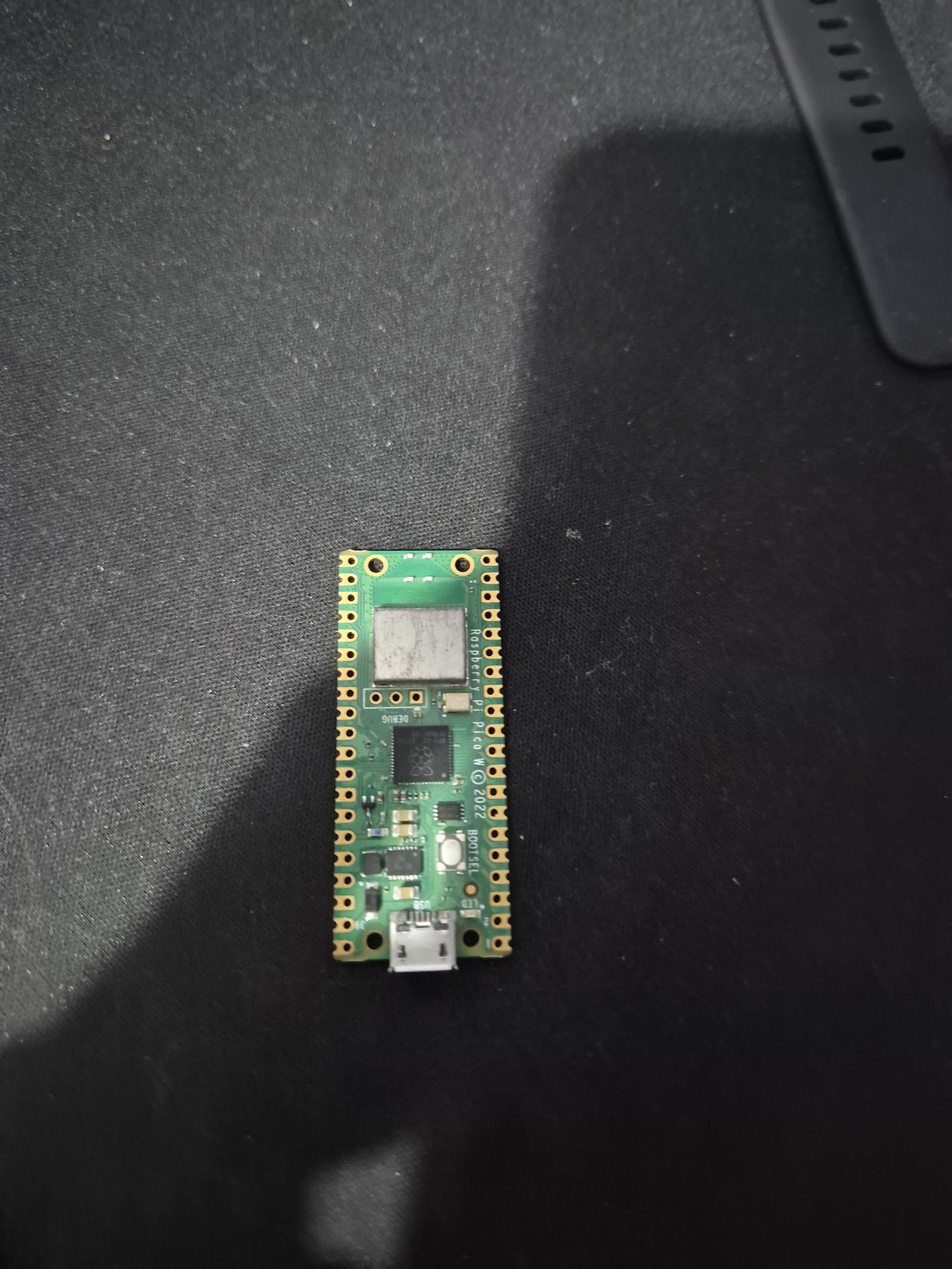raspberry-pi-pico-w: (334, 549, 512, 974)
